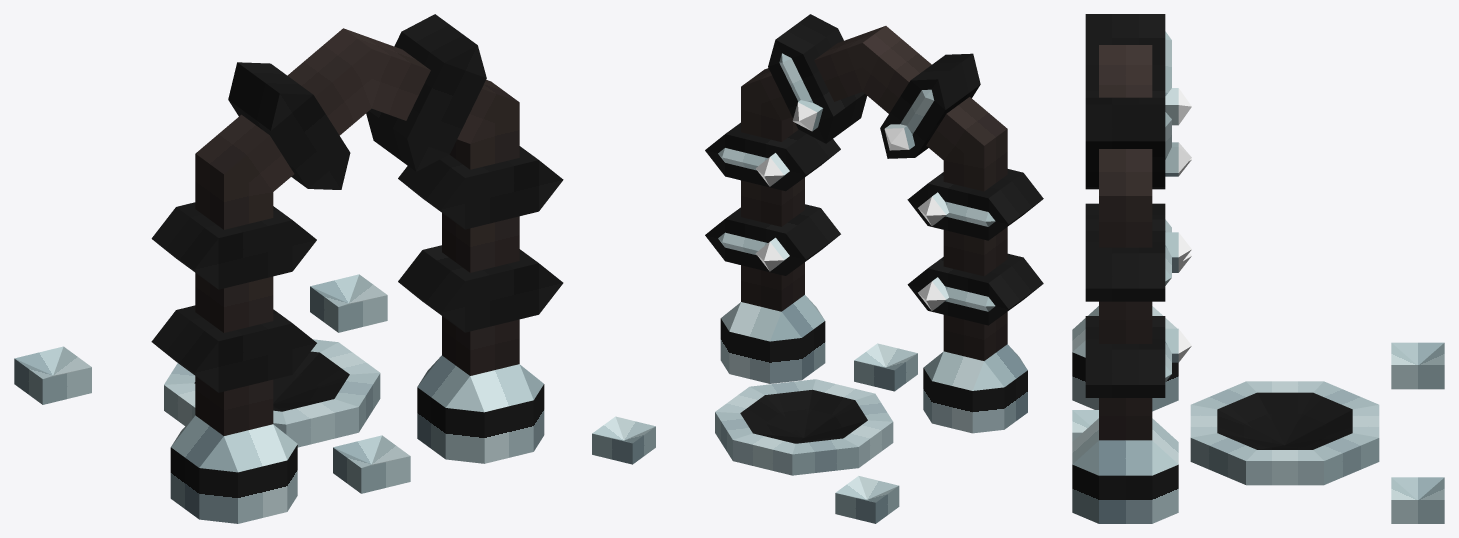
File: station_mastery_main.obj
The picture shows the model from 3 angles, left to right: view 1: azimuth 30°, elevation 25°; view 2: azimuth 150°, elevation 25°; view 3: azimuth 270°, elevation 25°; orthographic projection. The views are drawn at different scales.
Parts seen in each view (by area): view 1: MASTERY_MAIN_Cylinder; view 2: MASTERY_MAIN_Cylinder; view 3: MASTERY_MAIN_Cylinder.
Part boxes in pixels (x1,y1,x2,y2): MASTERY_MAIN_Cylinder: [14, 14, 563, 523]; MASTERY_MAIN_Cylinder: [592, 14, 1043, 523]; MASTERY_MAIN_Cylinder: [1072, 14, 1444, 523].
Size of the model in its own units: 0.9375 by 1.04 by 0.875.
